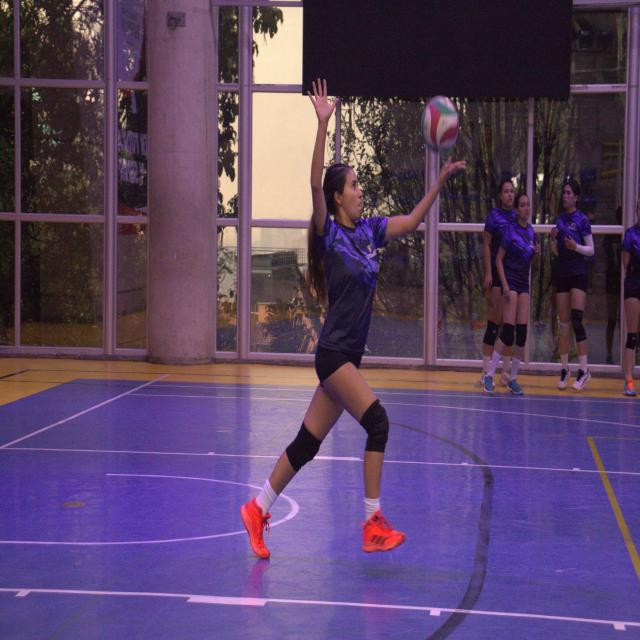volleyball: (420, 94, 458, 152)
